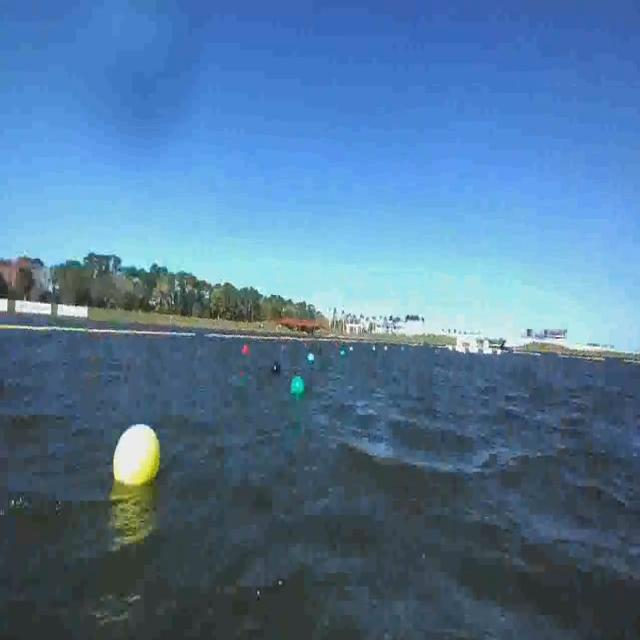black-buoy: (272, 361, 282, 374)
green-buoy: (291, 374, 304, 393), (306, 353, 313, 364)
red-buoy: (243, 346, 249, 355)
yellow-buoy: (113, 425, 160, 488)
